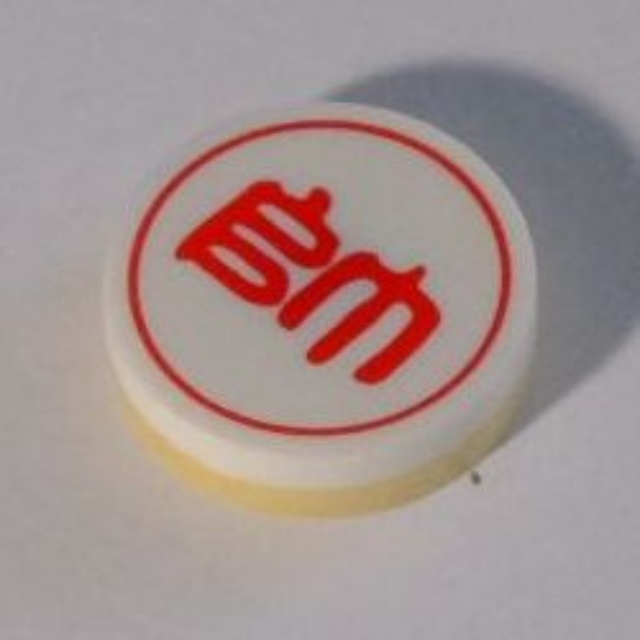red_tuong: (89, 88, 557, 517)
